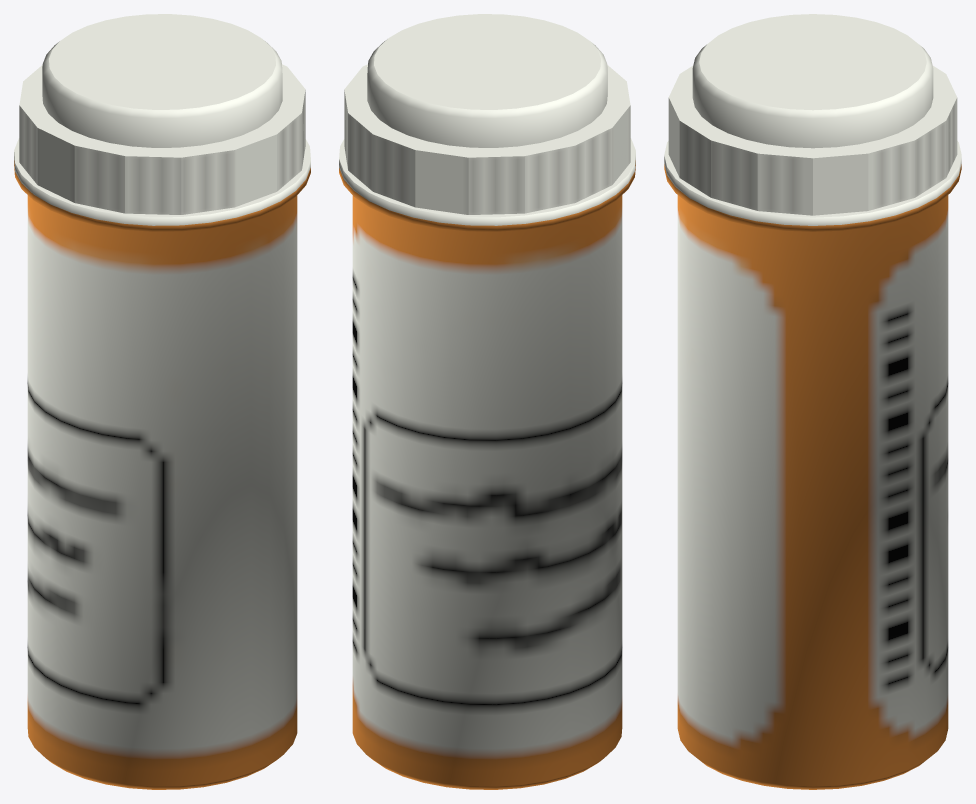
Rendered from FrasquitoZX.fbx.
The picture shows the model from 3 angles, left to right: view 1: azimuth 30°, elevation 25°; view 2: azimuth 150°, elevation 25°; view 3: azimuth 270°, elevation 25°; orthographic projection.
Parts seen in each view (by area): view 1: bottle; view 2: bottle; view 3: bottle.
Boxes of the visible parts, <box> form: bottle: <box>14,14,310,789</box>; bottle: <box>339,14,635,789</box>; bottle: <box>664,14,961,789</box>.
Size of the model in its own units: 0.088 by 0.22 by 0.088.
